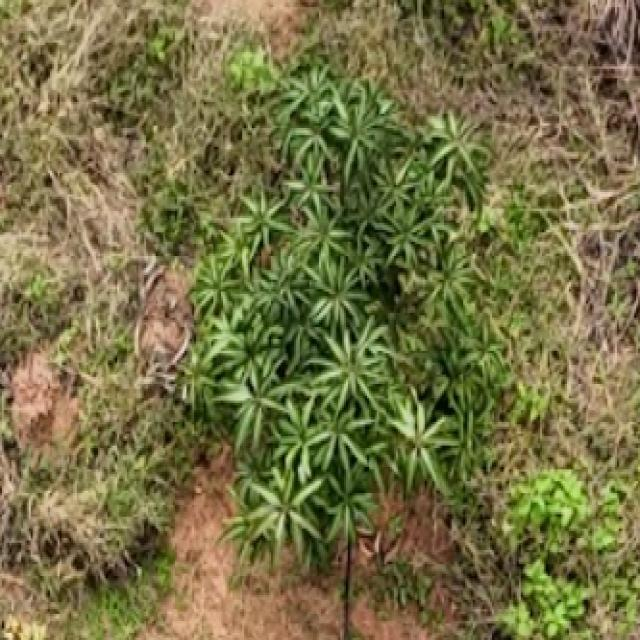mangoTree: (178, 66, 508, 572)
